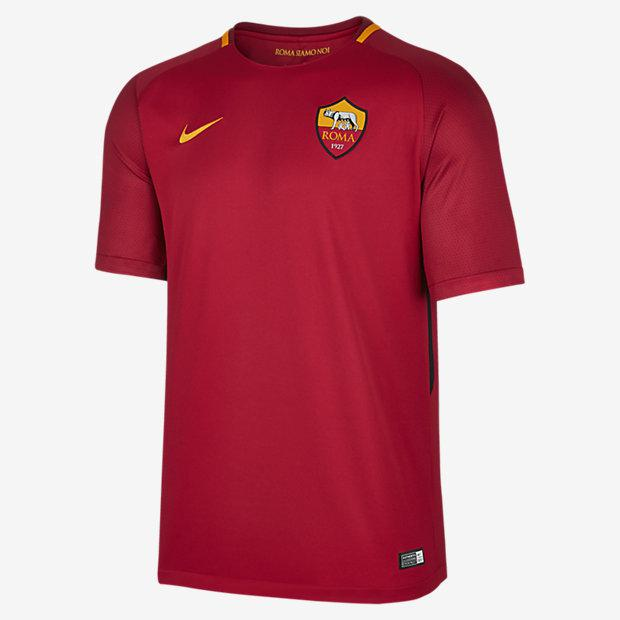teeshirt: (82, 15, 541, 600)
